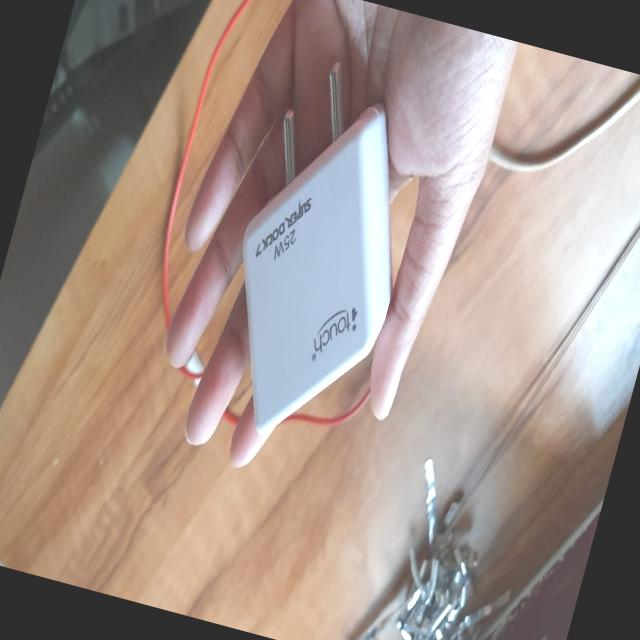Charger - Recyclable: (192, 50, 448, 461)
